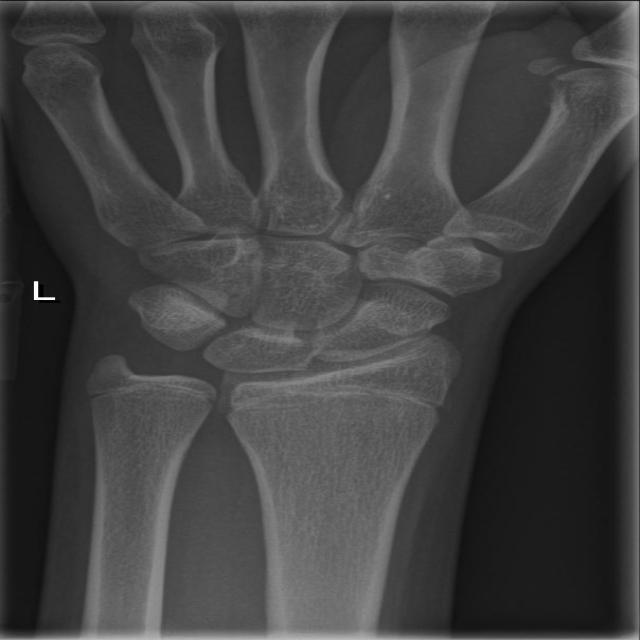fracture: (213, 369, 468, 428), (77, 366, 228, 423)
